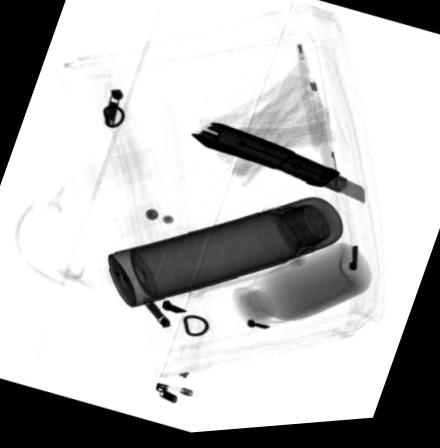Knife: (189, 125, 365, 210)
